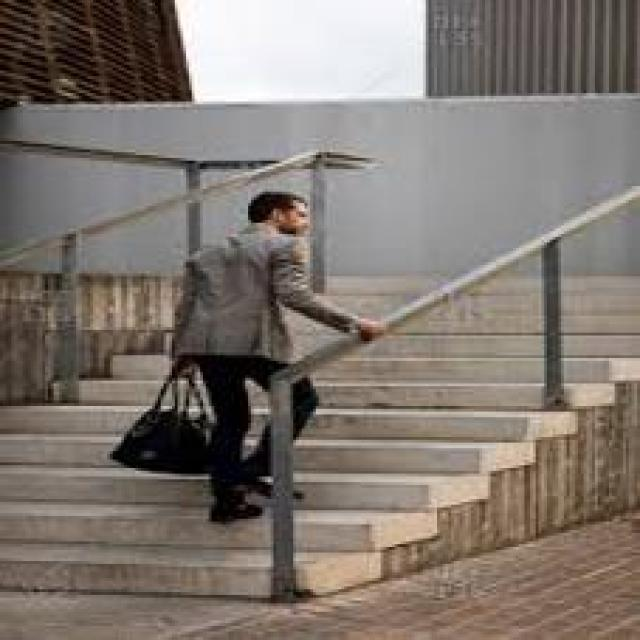stair: (3, 386, 313, 592)
